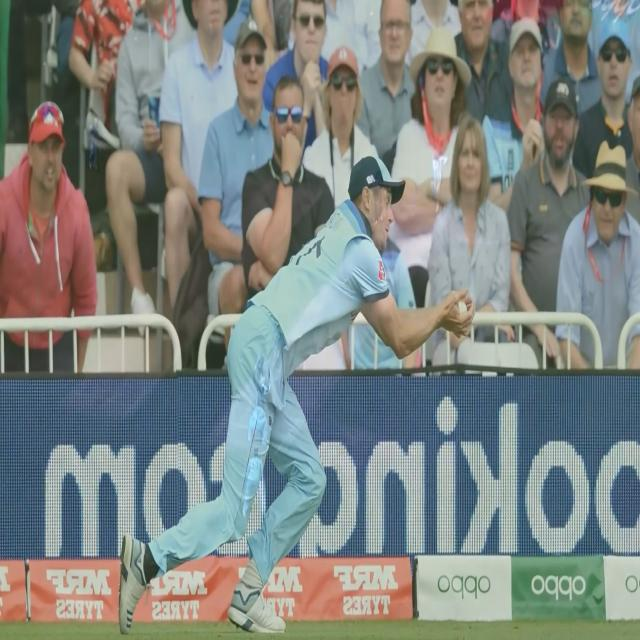ball: (451, 295, 474, 325)
